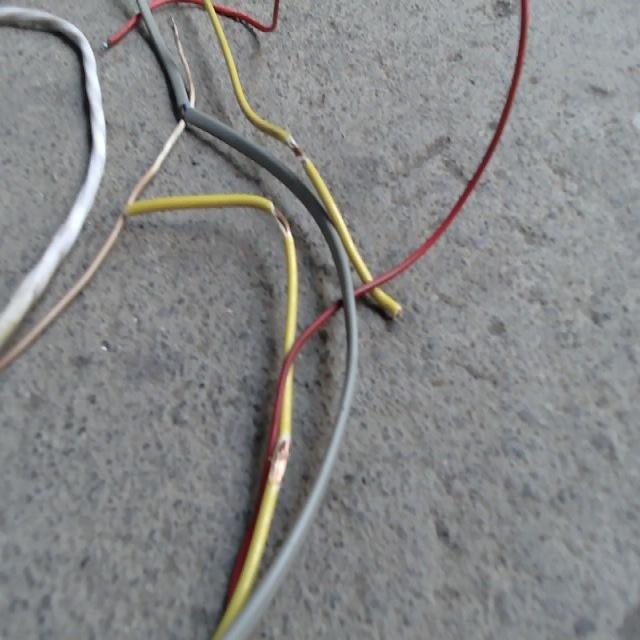-: (267, 435, 289, 484), (267, 199, 291, 240), (286, 133, 306, 160)
